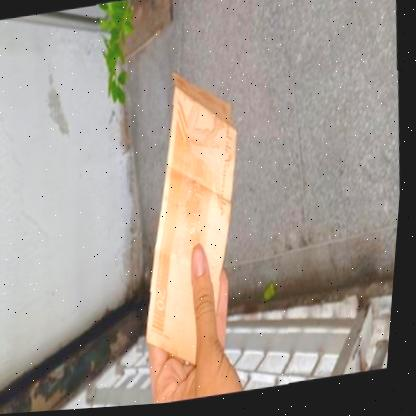twenty-back-vef: (125, 63, 263, 377)
